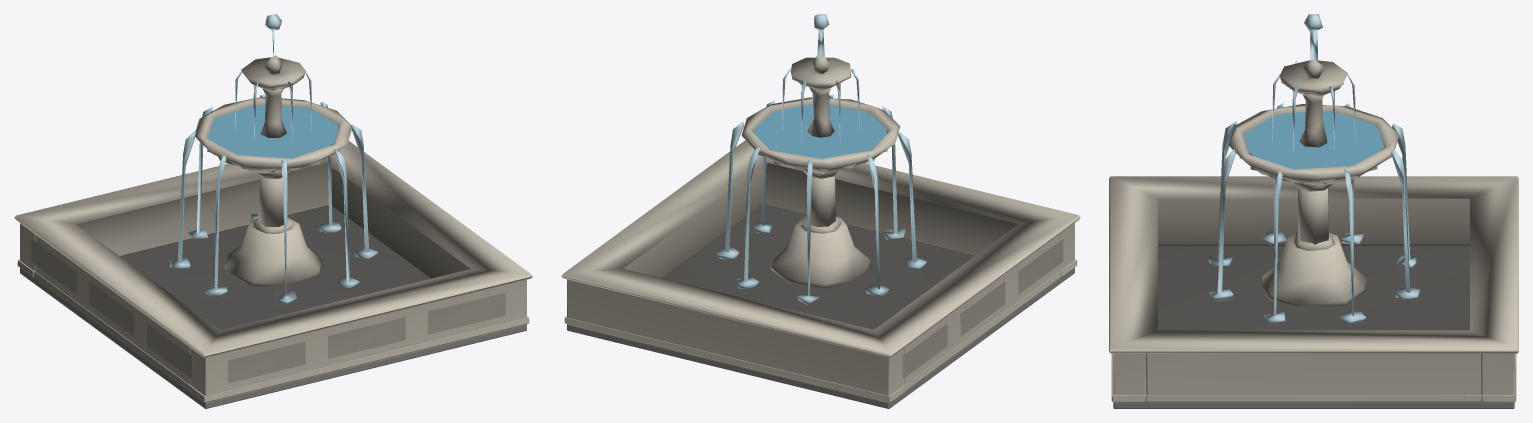
The model's file is fountainTown.far.glb.
The picture shows the model from 3 angles, left to right: view 1: azimuth 30°, elevation 25°; view 2: azimuth 150°, elevation 25°; view 3: azimuth 270°, elevation 25°; orthographic projection. The views are drawn at different scales.
Parts seen in each view (by area): view 1: fountainTown_far; view 2: fountainTown_far; view 3: fountainTown_far.
Part boxes in pixels (x1,y1,x2,y2): fountainTown_far: (14, 14, 532, 408); fountainTown_far: (561, 14, 1080, 408); fountainTown_far: (1109, 14, 1518, 408).
Size of the model in its own units: 2.96 by 2.47 by 2.96.
